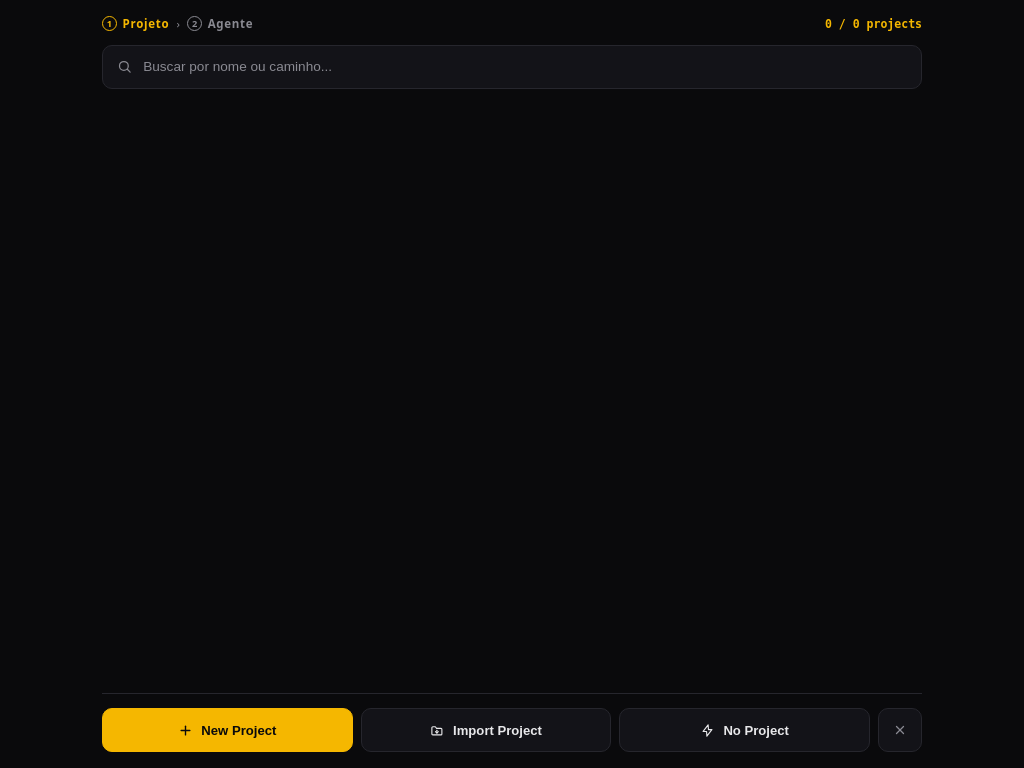
PaneWizard › selecionar um projeto avança para a etapa AGENT e "Voltar" volta preservando a busca (P1 AC5, AC6)
Expected: the text "0 / 0 projects" is shown, [825,16,922,30]
In the search field named "Buscar projetos": (524, 67) [141,58,907,75], type "alp"
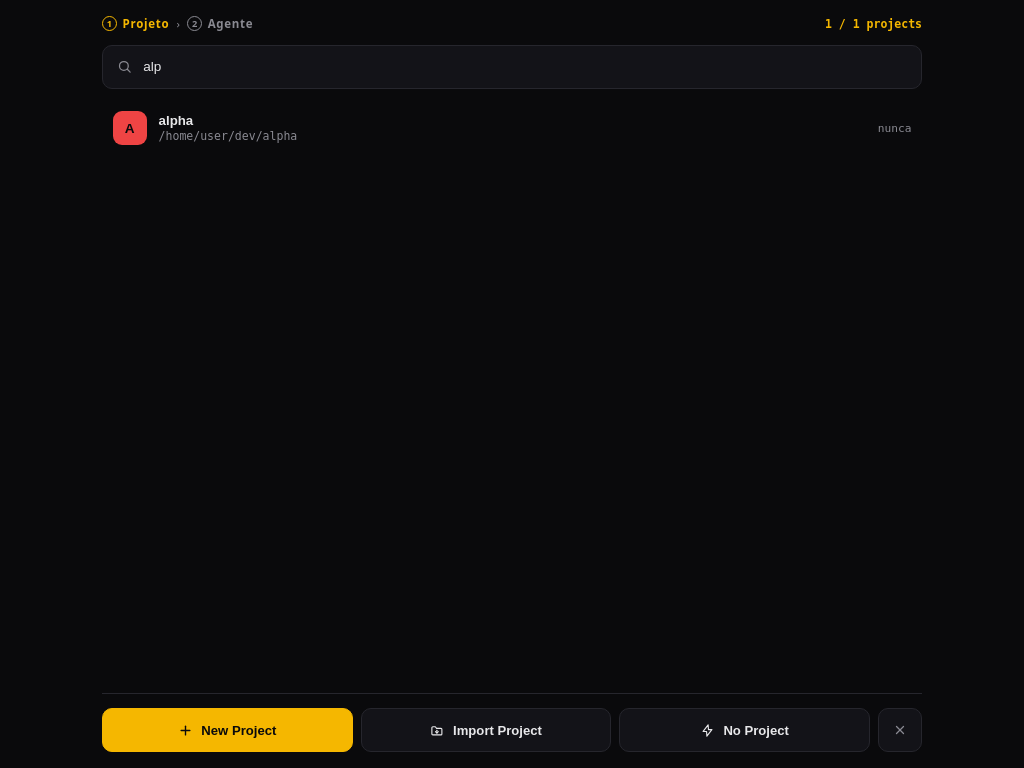
Click the button "A alpha /home/user/dev/alpha nunca": (130, 128) [102,102,922,154]
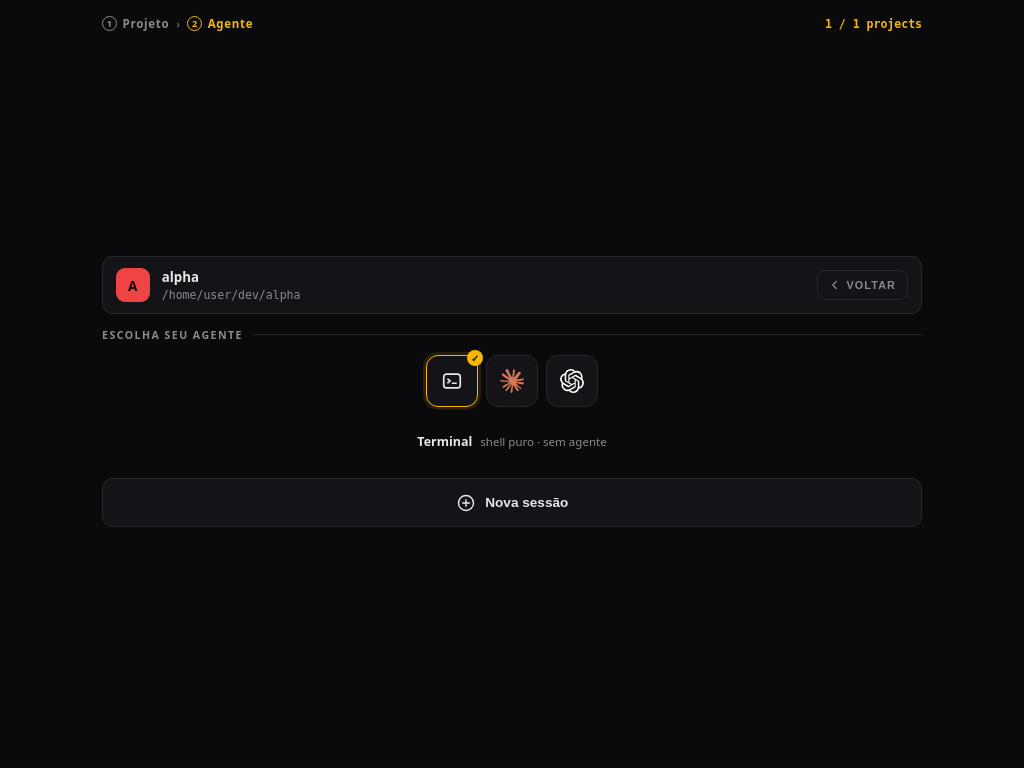
Expected: the text "/home/user/dev/alpha" is shown, [162,288,300,302]
Click the button "Voltar": (862, 285) [817,270,908,300]
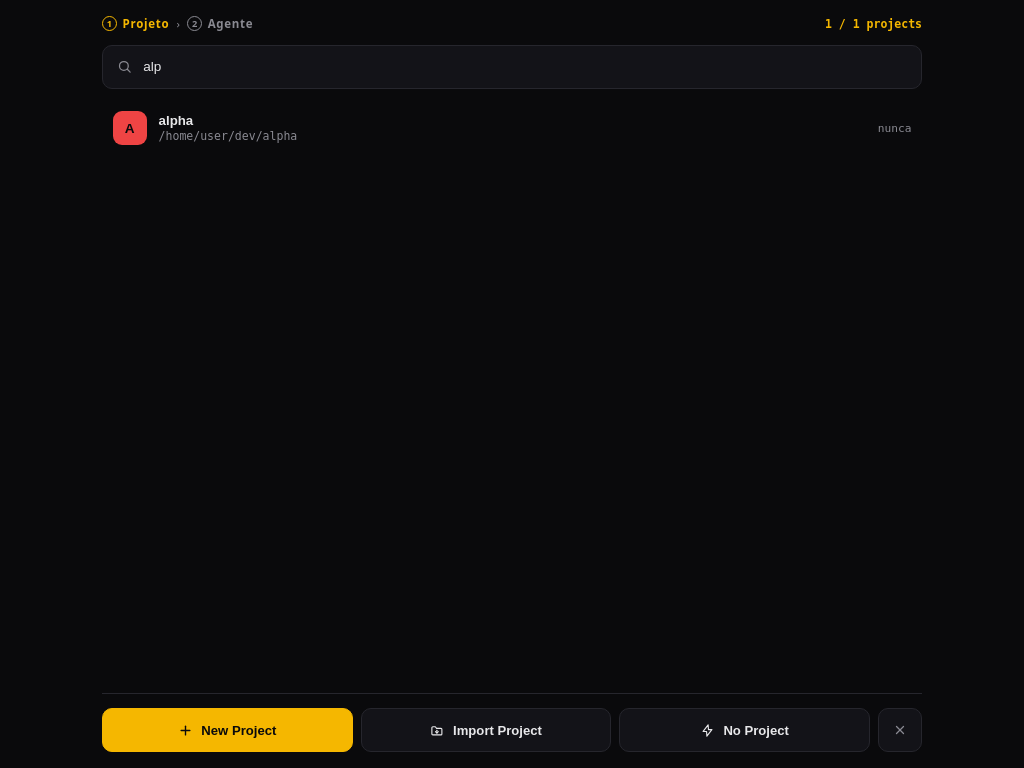
Expected: the search field named "Buscar projetos" holds "alp", [141,58,907,75]
